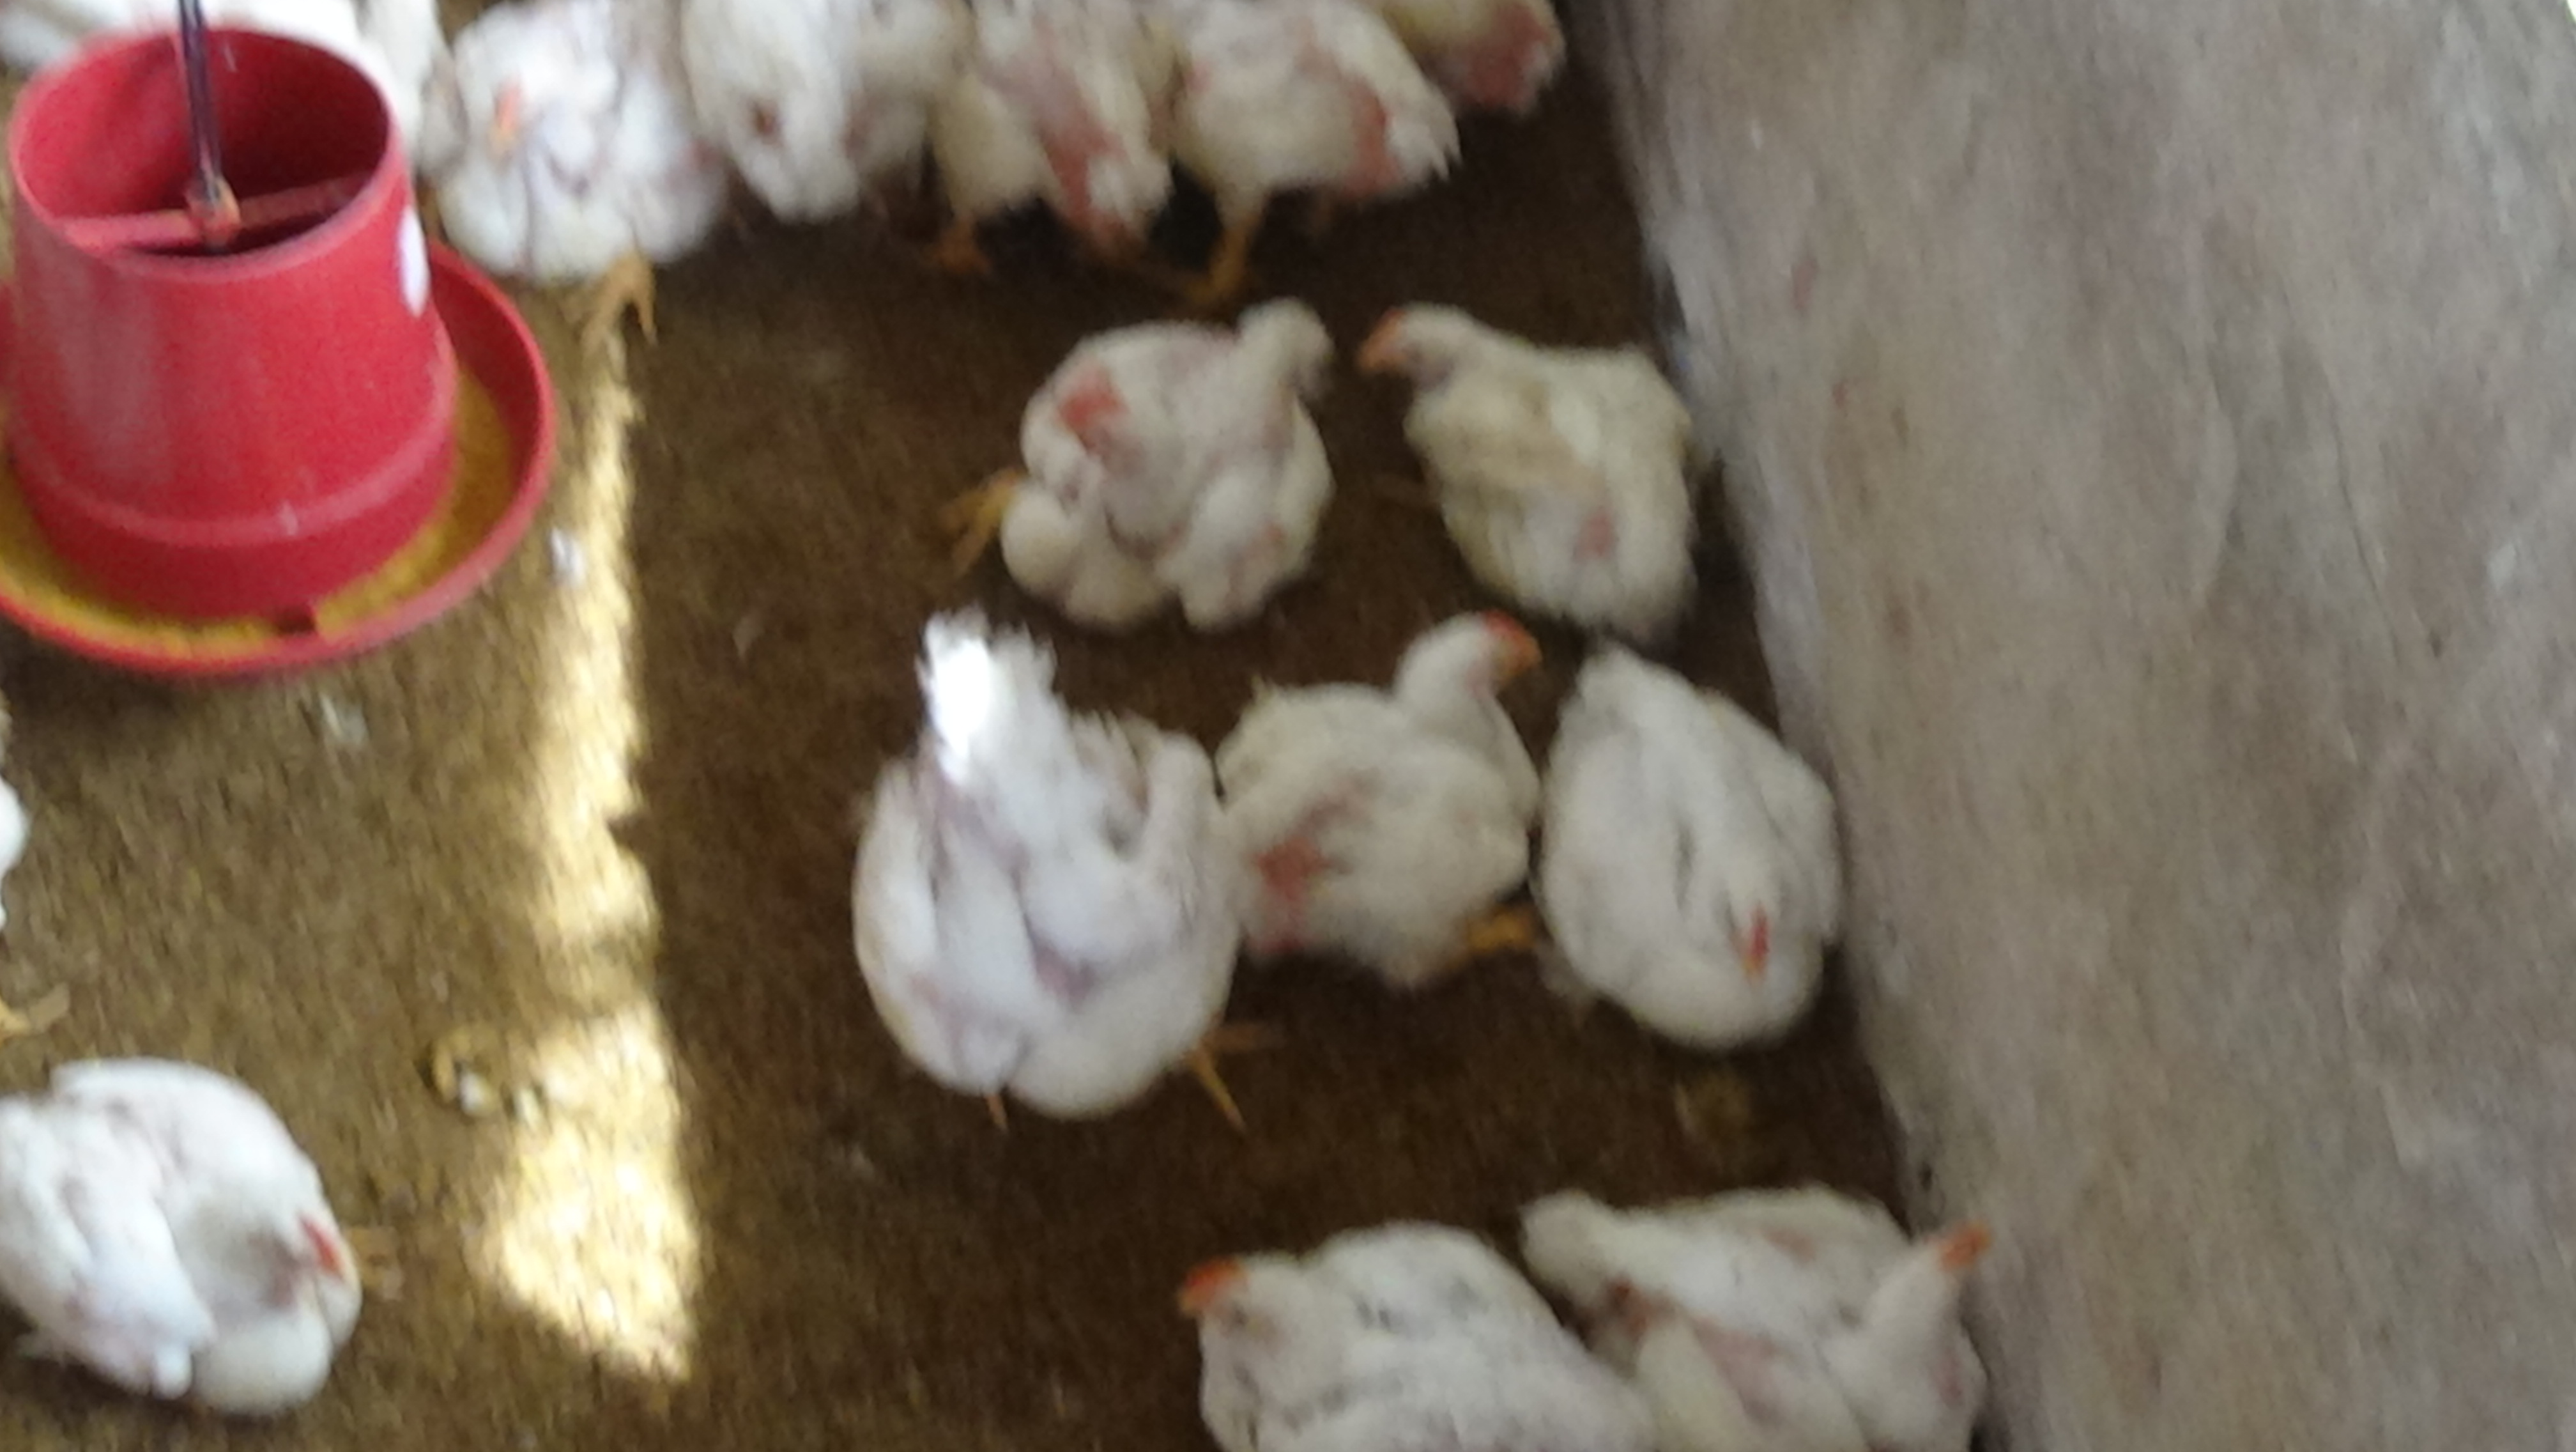Pollos: (855, 620, 1253, 1188), (955, 280, 1376, 666), (1180, 602, 1580, 990), (1532, 634, 1868, 1055), (0, 1055, 377, 1418), (1368, 264, 1714, 653), (1553, 1163, 2015, 1452), (1161, 1225, 1638, 1452), (444, 0, 727, 374), (1104, 5, 1456, 280), (867, 5, 1164, 289), (694, 0, 945, 262)
